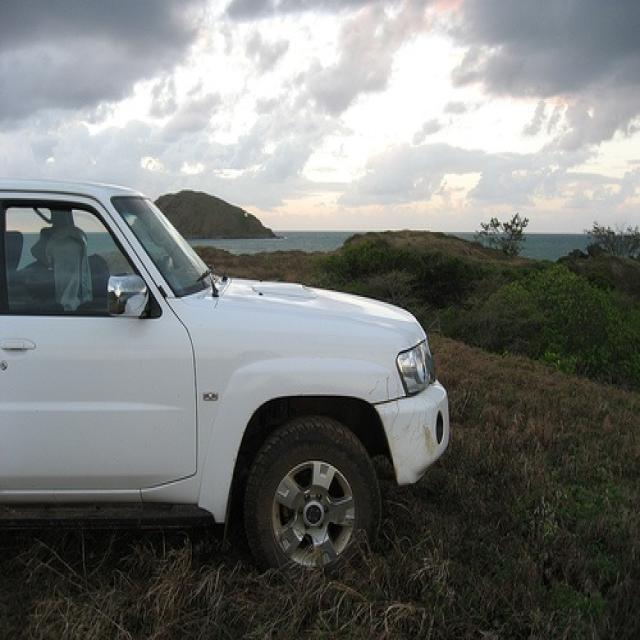car: (0, 177, 454, 578)
